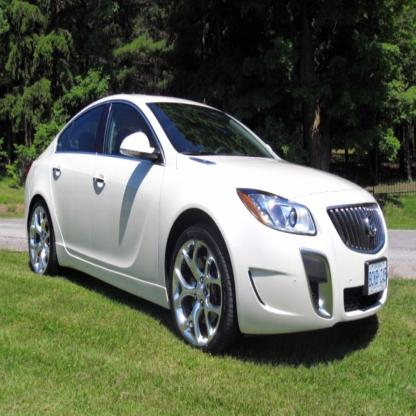Car: (26, 95, 390, 355)
